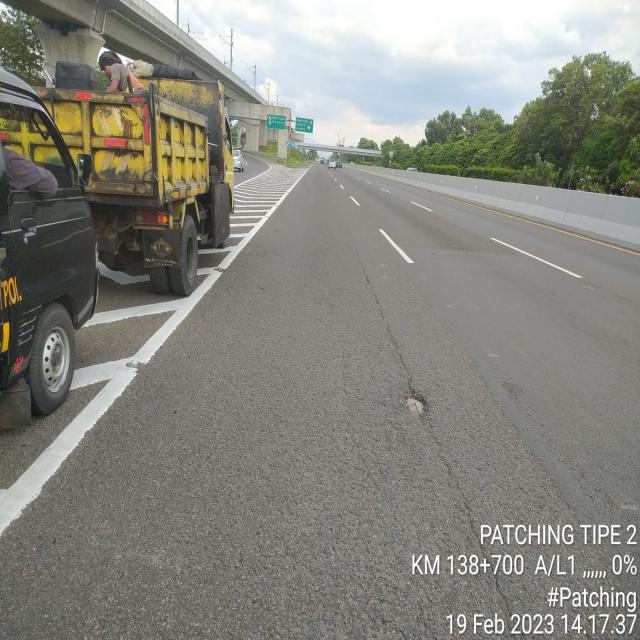Buraco: (398, 385, 430, 428)
